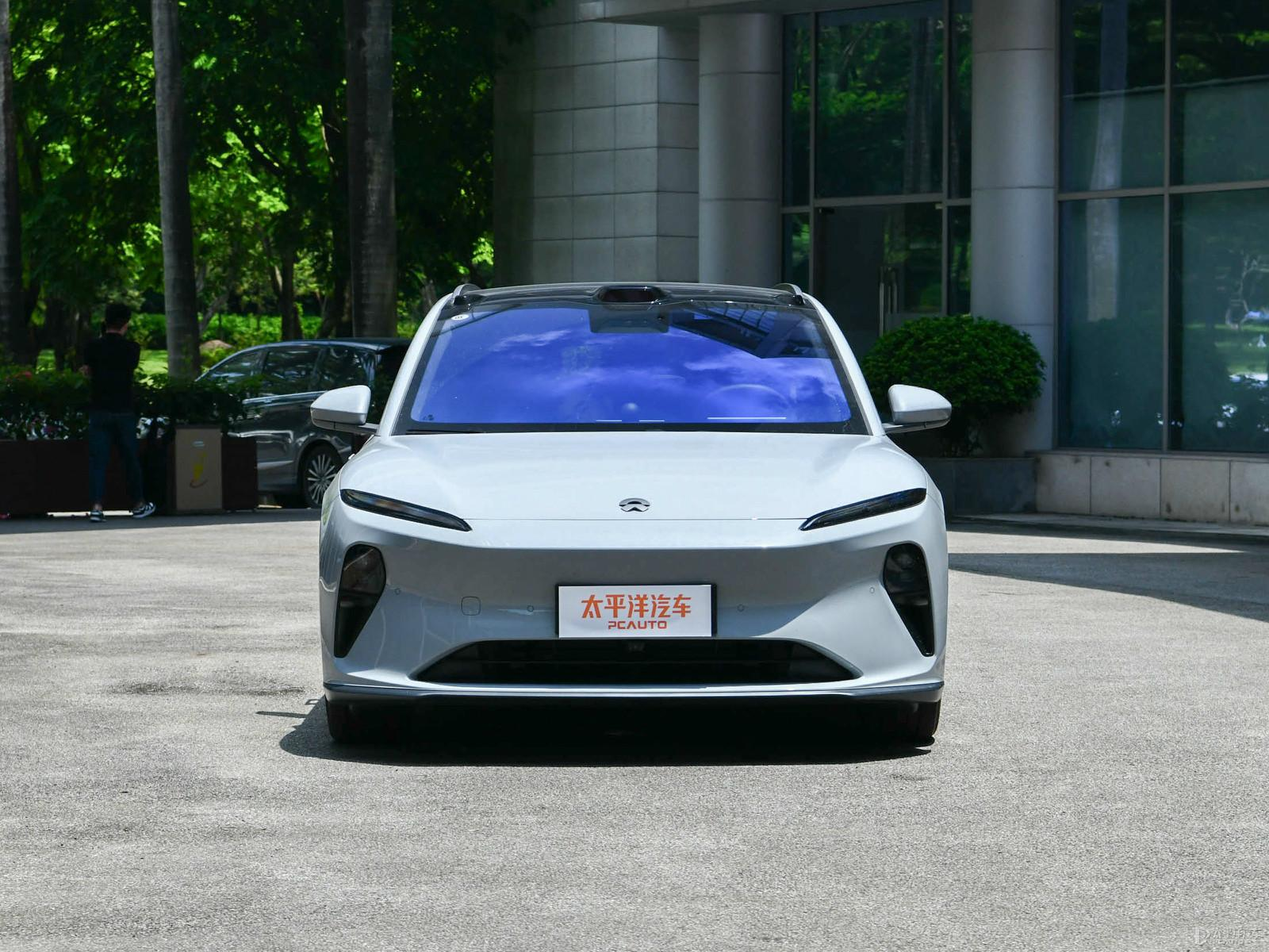NIO: (619, 497, 650, 512)
